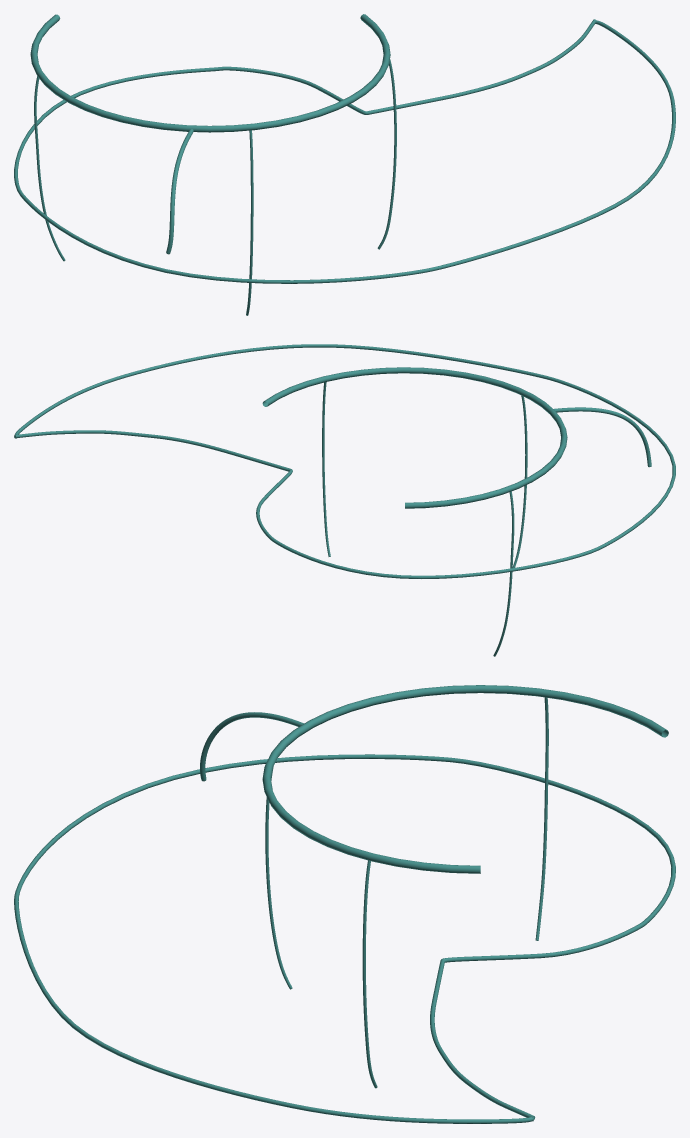
File: Tubos.fbx
The picture shows the model from 3 angles, top to bottom: view 1: azimuth 30°, elevation 25°; view 2: azimuth 150°, elevation 25°; view 3: azimuth 270°, elevation 25°; orthographic projection. The views are drawn at different scales.
Parts seen in each view (by area): view 1: BézierCurve.006, BézierCircle, BézierCurve.005, BézierCurve.002, BézierCurve.003, BézierCurve.004; view 2: BézierCurve.006, BézierCircle, BézierCurve.005, BézierCurve.003, BézierCurve.002, BézierCurve.004; view 3: BézierCurve.006, BézierCircle, BézierCurve.004, BézierCurve.003, BézierCurve.005, BézierCurve.002.
Boxes of the visible parts, left/top/right/bottom form: BézierCurve.006: left=14, top=19, right=675, bottom=283; BézierCircle: left=30, top=14, right=390, bottom=132; BézierCurve.005: left=166, top=129, right=193, bottom=254; BézierCurve.002: left=246, top=130, right=253, bottom=315; BézierCurve.003: left=377, top=59, right=396, bottom=249; BézierCurve.004: left=34, top=76, right=65, bottom=261; BézierCurve.006: left=14, top=344, right=675, bottom=578; BézierCircle: left=262, top=367, right=567, bottom=508; BézierCurve.005: left=554, top=407, right=651, bottom=467; BézierCurve.003: left=322, top=382, right=330, bottom=556; BézierCurve.002: left=512, top=395, right=527, bottom=567; BézierCurve.004: left=493, top=491, right=514, bottom=656; BézierCurve.006: left=14, top=754, right=675, bottom=1123; BézierCircle: left=262, top=685, right=668, bottom=873; BézierCurve.004: left=535, top=697, right=548, bottom=940; BézierCurve.003: left=362, top=860, right=377, bottom=1088; BézierCurve.005: left=200, top=712, right=303, bottom=781; BézierCurve.002: left=265, top=766, right=292, bottom=989.
Size of the model in its own units: 1441 by 437 by 1099.
